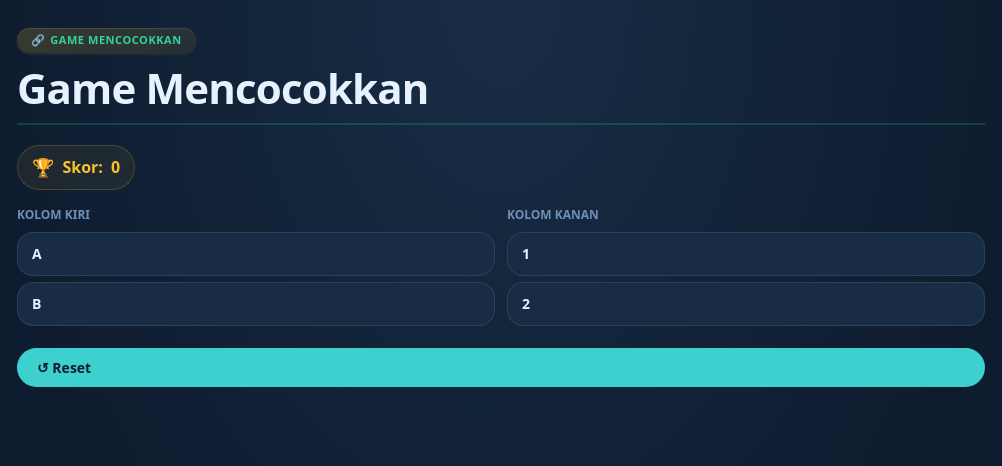
Test: PREMIUM-STYLE-P2 PATCH A — Behavior Tests › 15. matching wrong pair still retry-friendly
The image size is (1002, 466).
# Wrong pair: l1 → r2
Click the button with test id "left-l1": (37, 254) [17,232,495,276]
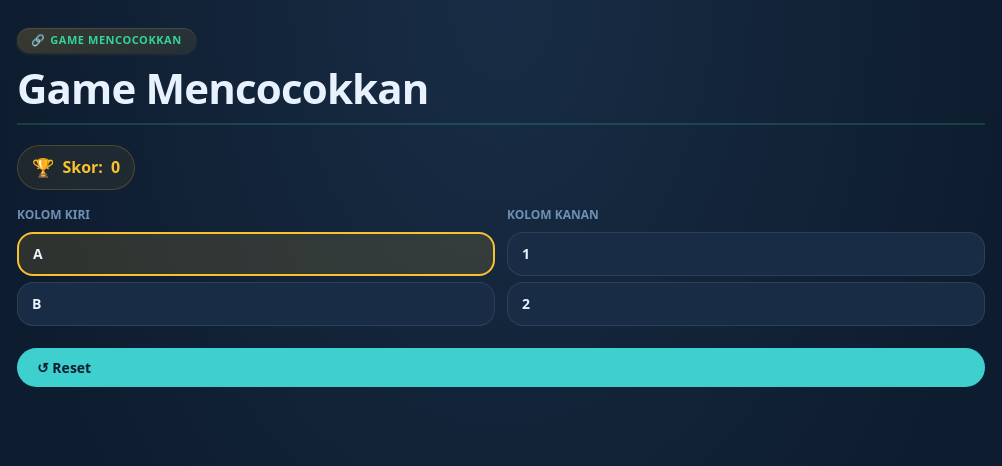
Click the button with test id "right-r2": (526, 304) [507,282,985,326]
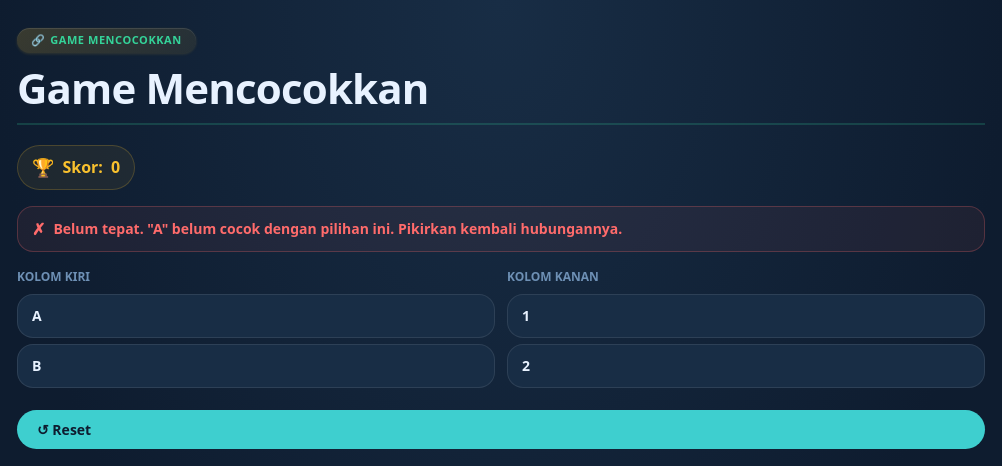
Expected: the text with test id "matching-score" reads "0", [111,156,120,178]
Expected: the button with test id "right-r2" is enabled, [507,344,985,388]
# Now try correct pair: l1 → r1
Click the button with test id "left-l1": (37, 316) [17,294,495,338]
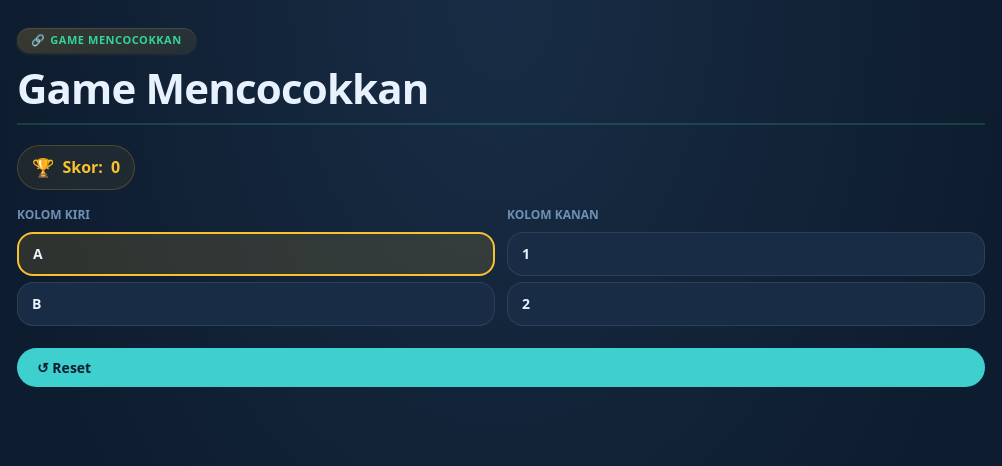
Click the button with test id "right-r1": (526, 254) [507,232,985,276]
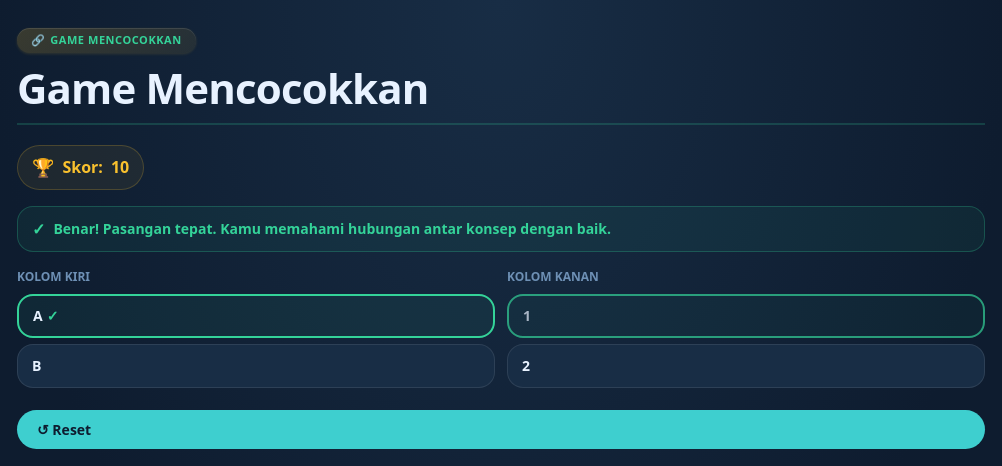
Now the text with test id "matching-score" reads "10", box [111,156,129,178]
